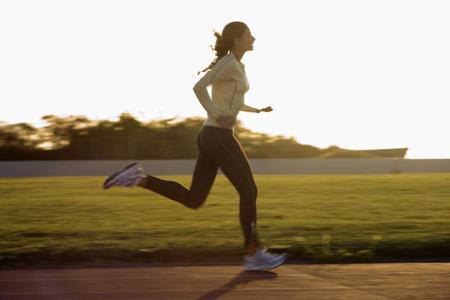person: (98, 20, 287, 274)
